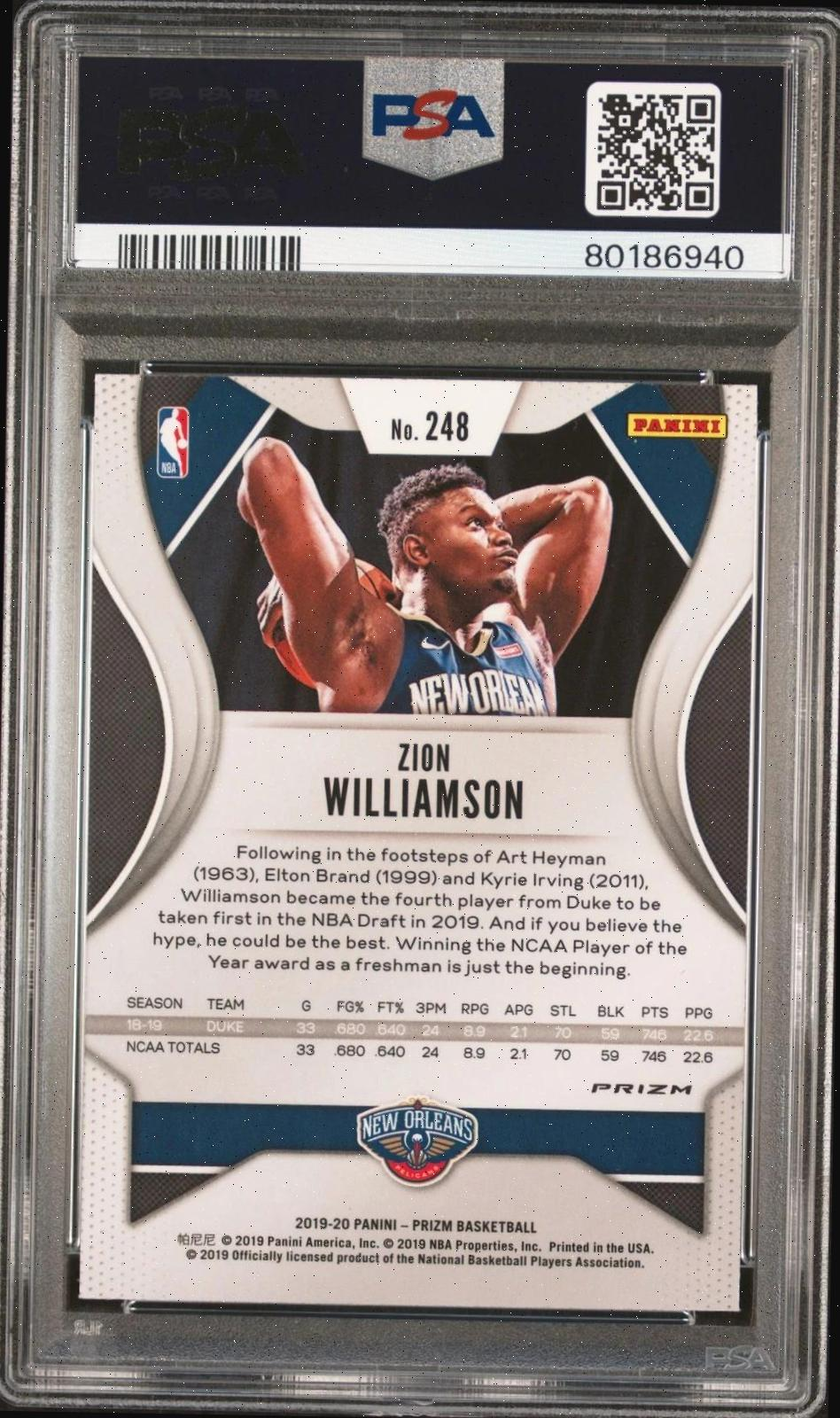card-2UtV: (77, 373, 758, 1312)
